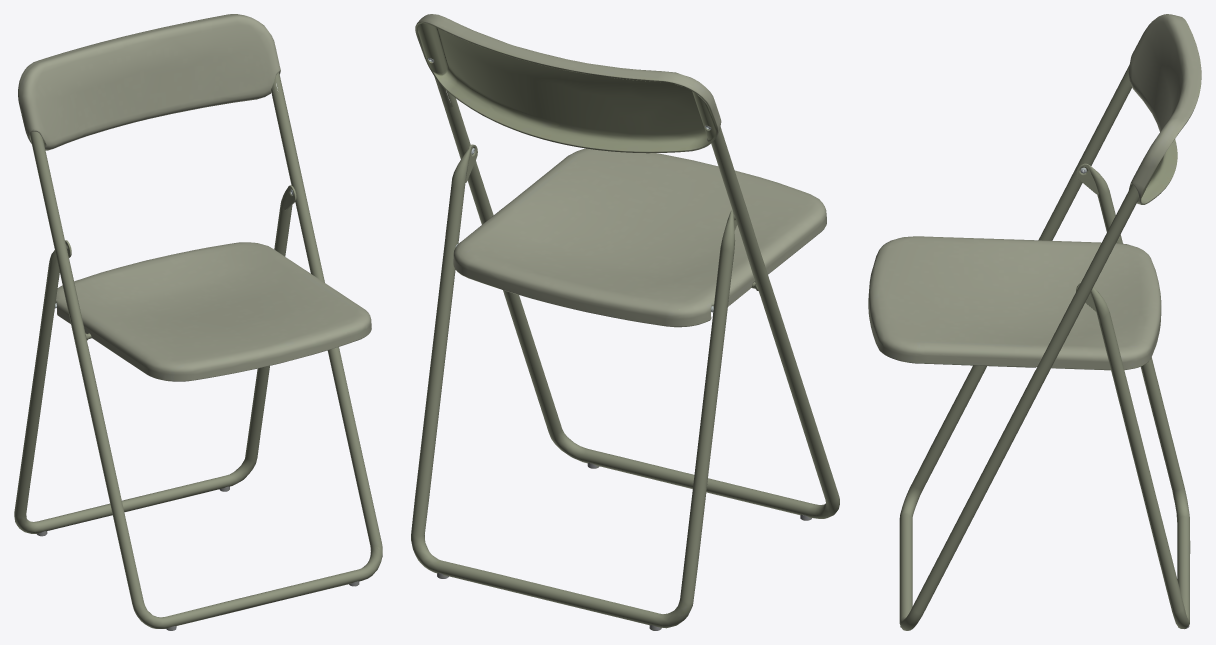
Rendered from vihals_krzeso_skadane_00592752.glb.
3 renders of one model, left to right at view 1: azimuth 30°, elevation 25°; view 2: azimuth 150°, elevation 25°; view 3: azimuth 270°, elevation 25°, orthographic. The views are drawn at different scales.
Visible parts, largest first — view 1: vihals_krzeso_skadane_00592752; view 2: vihals_krzeso_skadane_00592752; view 3: vihals_krzeso_skadane_00592752.
Boxes of the visible parts, <box> form: vihals_krzeso_skadane_00592752: <box>14,14,382,630</box>; vihals_krzeso_skadane_00592752: <box>411,14,839,630</box>; vihals_krzeso_skadane_00592752: <box>868,14,1201,630</box>.
Bounding box in the file's own units: 0.443 × 0.7967 × 0.4713.
1 material, 1 textured.
